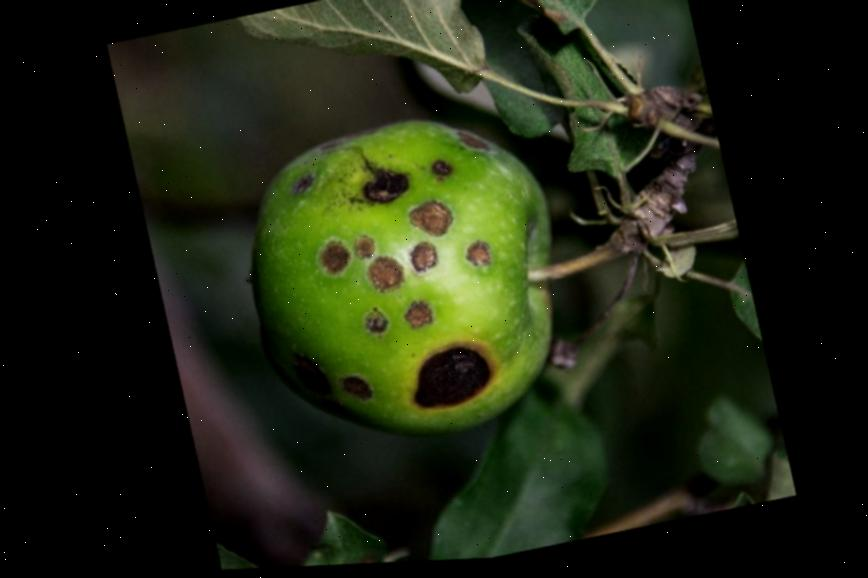SCAB: (202, 57, 636, 496)
